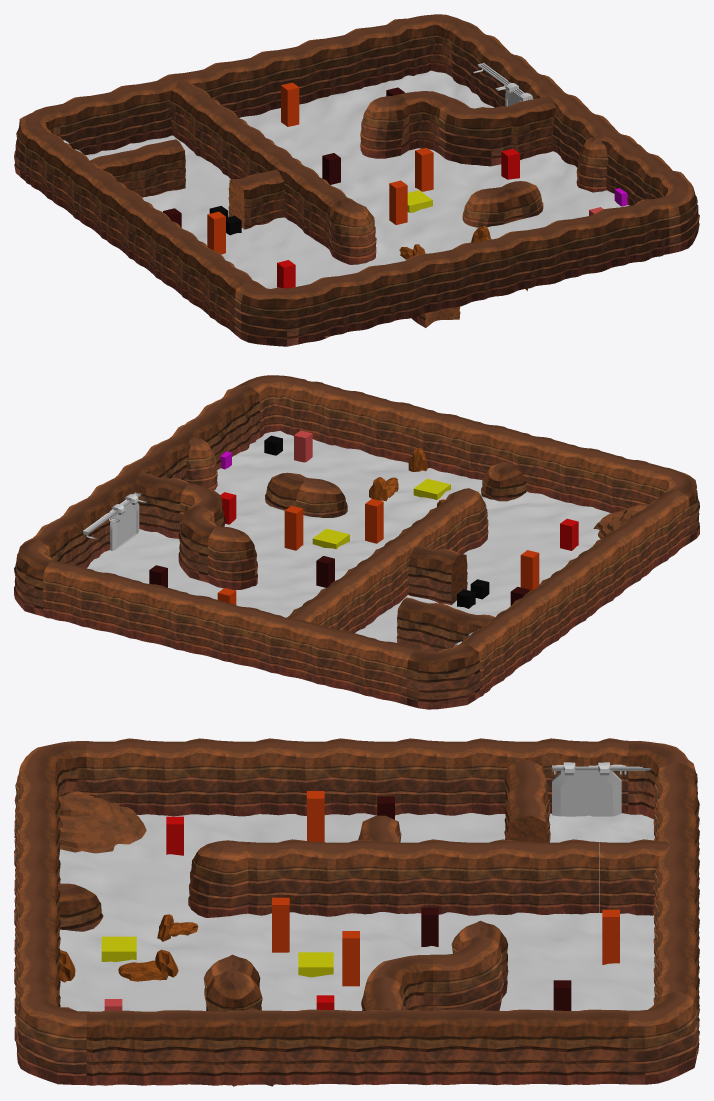
Rendered from level1V3_b6_35_final.fbx.
3 views of the same model, one above another, from view 1: azimuth 30°, elevation 25°; view 2: azimuth 150°, elevation 25°; view 3: azimuth 270°, elevation 25° (orthographic). The views are drawn at different scales.
Parts seen in each view (by area): view 1: level1_wall046, Plane074, level1_column002, Antena4, Antena6, Antena2, Antena1, Stormtrooper1, Blurrg1; view 2: level1_wall046, Plane074, level1_column002, level1_door001, Antena2, Antena4, Antena1, Pyramid001, EnemyTurret, Sarlaacc1, Sarlaacc, Stormtrooper3 (+1 smaller); view 3: level1_wall046, Plane074, Pyramid001, level1_door, Antena2, Antena4, Antena6, Antena1, Sarlaacc, Sarlaacc1, GeoSphere003, Blurrg1 (+2 smaller).
Boxes of the visible parts, x1,y1,x2,y2 form: level1_wall046: [14, 14, 699, 346]; Plane074: [85, 70, 629, 288]; level1_column002: [576, 135, 608, 192]; Antena4: [389, 180, 407, 224]; Antena6: [281, 82, 299, 126]; Antena2: [415, 147, 433, 191]; Antena1: [207, 211, 225, 254]; Stormtrooper1: [501, 148, 519, 179]; Blurrg1: [322, 153, 340, 184]; level1_wall046: [14, 375, 699, 709]; Plane074: [87, 431, 610, 642]; level1_column002: [186, 437, 217, 490]; level1_door001: [110, 494, 139, 550]; Antena2: [284, 506, 303, 550]; Antena4: [365, 499, 383, 543]; Antena1: [520, 550, 539, 591]; Pyramid001: [593, 504, 648, 538]; EnemyTurret: [294, 430, 312, 462]; Sarlaacc1: [312, 528, 349, 549]; Sarlaacc: [413, 478, 450, 499]; Stormtrooper3: [560, 518, 578, 550]; level1_wall046: [14, 738, 699, 1085]; Plane074: [59, 813, 654, 1011]; Pyramid001: [14, 791, 146, 853]; level1_door: [552, 762, 621, 816]; Antena2: [342, 931, 359, 986]; Antena4: [272, 897, 289, 952]; Antena6: [602, 909, 619, 964]; Antena1: [307, 791, 324, 842]; Sarlaacc: [101, 936, 136, 962]; Sarlaacc1: [298, 952, 333, 977]; GeoSphere003: [118, 960, 163, 981]; Blurrg1: [421, 907, 438, 946].
Size of the model in its own units: 1534 by 241 by 1534.
